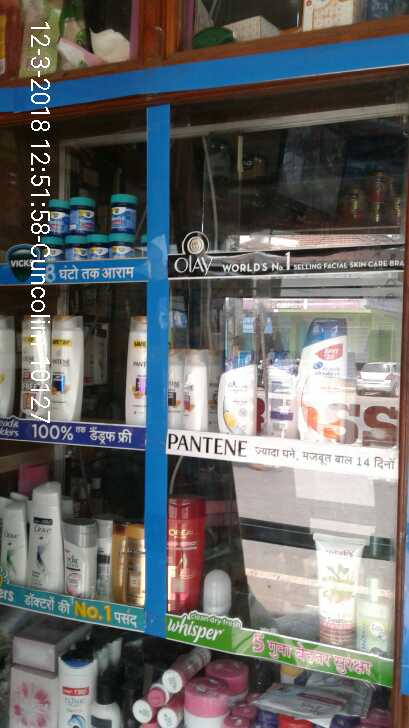beauty: (301, 320, 350, 440), (46, 314, 84, 426), (122, 318, 153, 429), (179, 347, 208, 434)
pharmacy: (102, 196, 141, 231), (35, 193, 63, 237), (67, 198, 96, 232), (86, 236, 113, 262), (63, 235, 89, 261), (108, 239, 134, 259)
